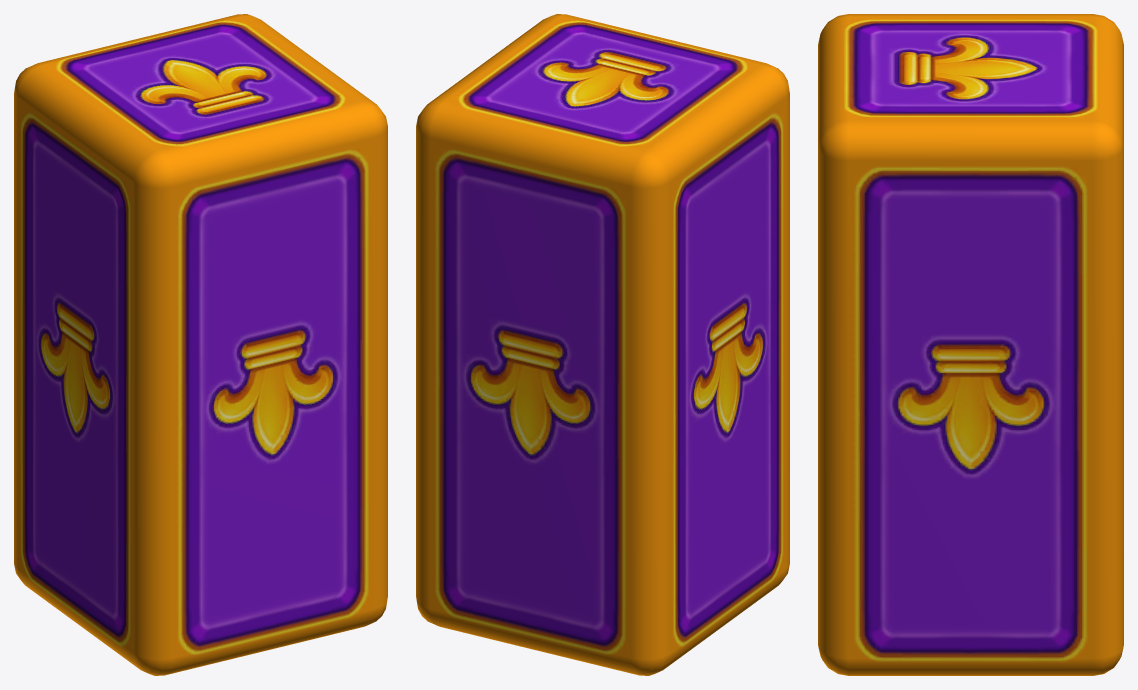
The picture shows the model from 3 angles, left to right: view 1: azimuth 30°, elevation 25°; view 2: azimuth 150°, elevation 25°; view 3: azimuth 270°, elevation 25°; orthographic projection. The views are drawn at different scales.
Parts seen in each view (by area): view 1: 4041; view 2: 4041; view 3: 4041.
Boxes of the visible parts, x1=… form: 4041: x1=14, y1=14, x2=387, y2=675; 4041: x1=416, y1=14, x2=789, y2=675; 4041: x1=818, y1=14, x2=1123, y2=675.
Size of the model in its own units: 1 by 2 by 1.
Materials: 1 (1 with a texture image).
